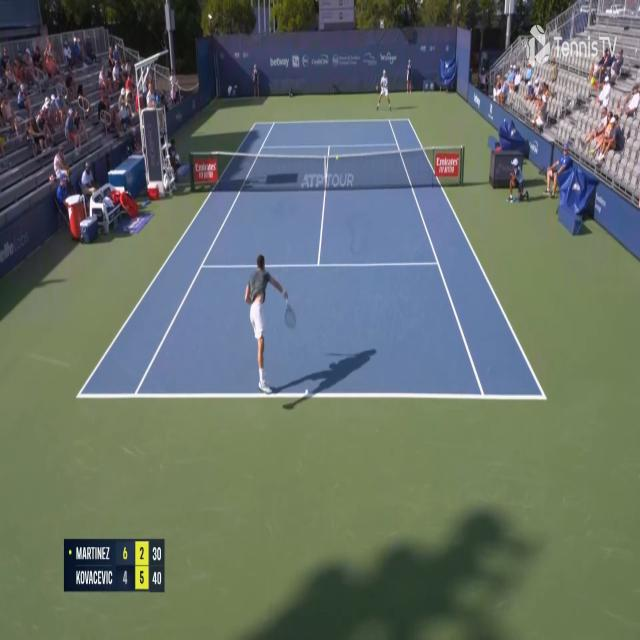tennis-player: (246, 249, 297, 396), (375, 68, 392, 112)
